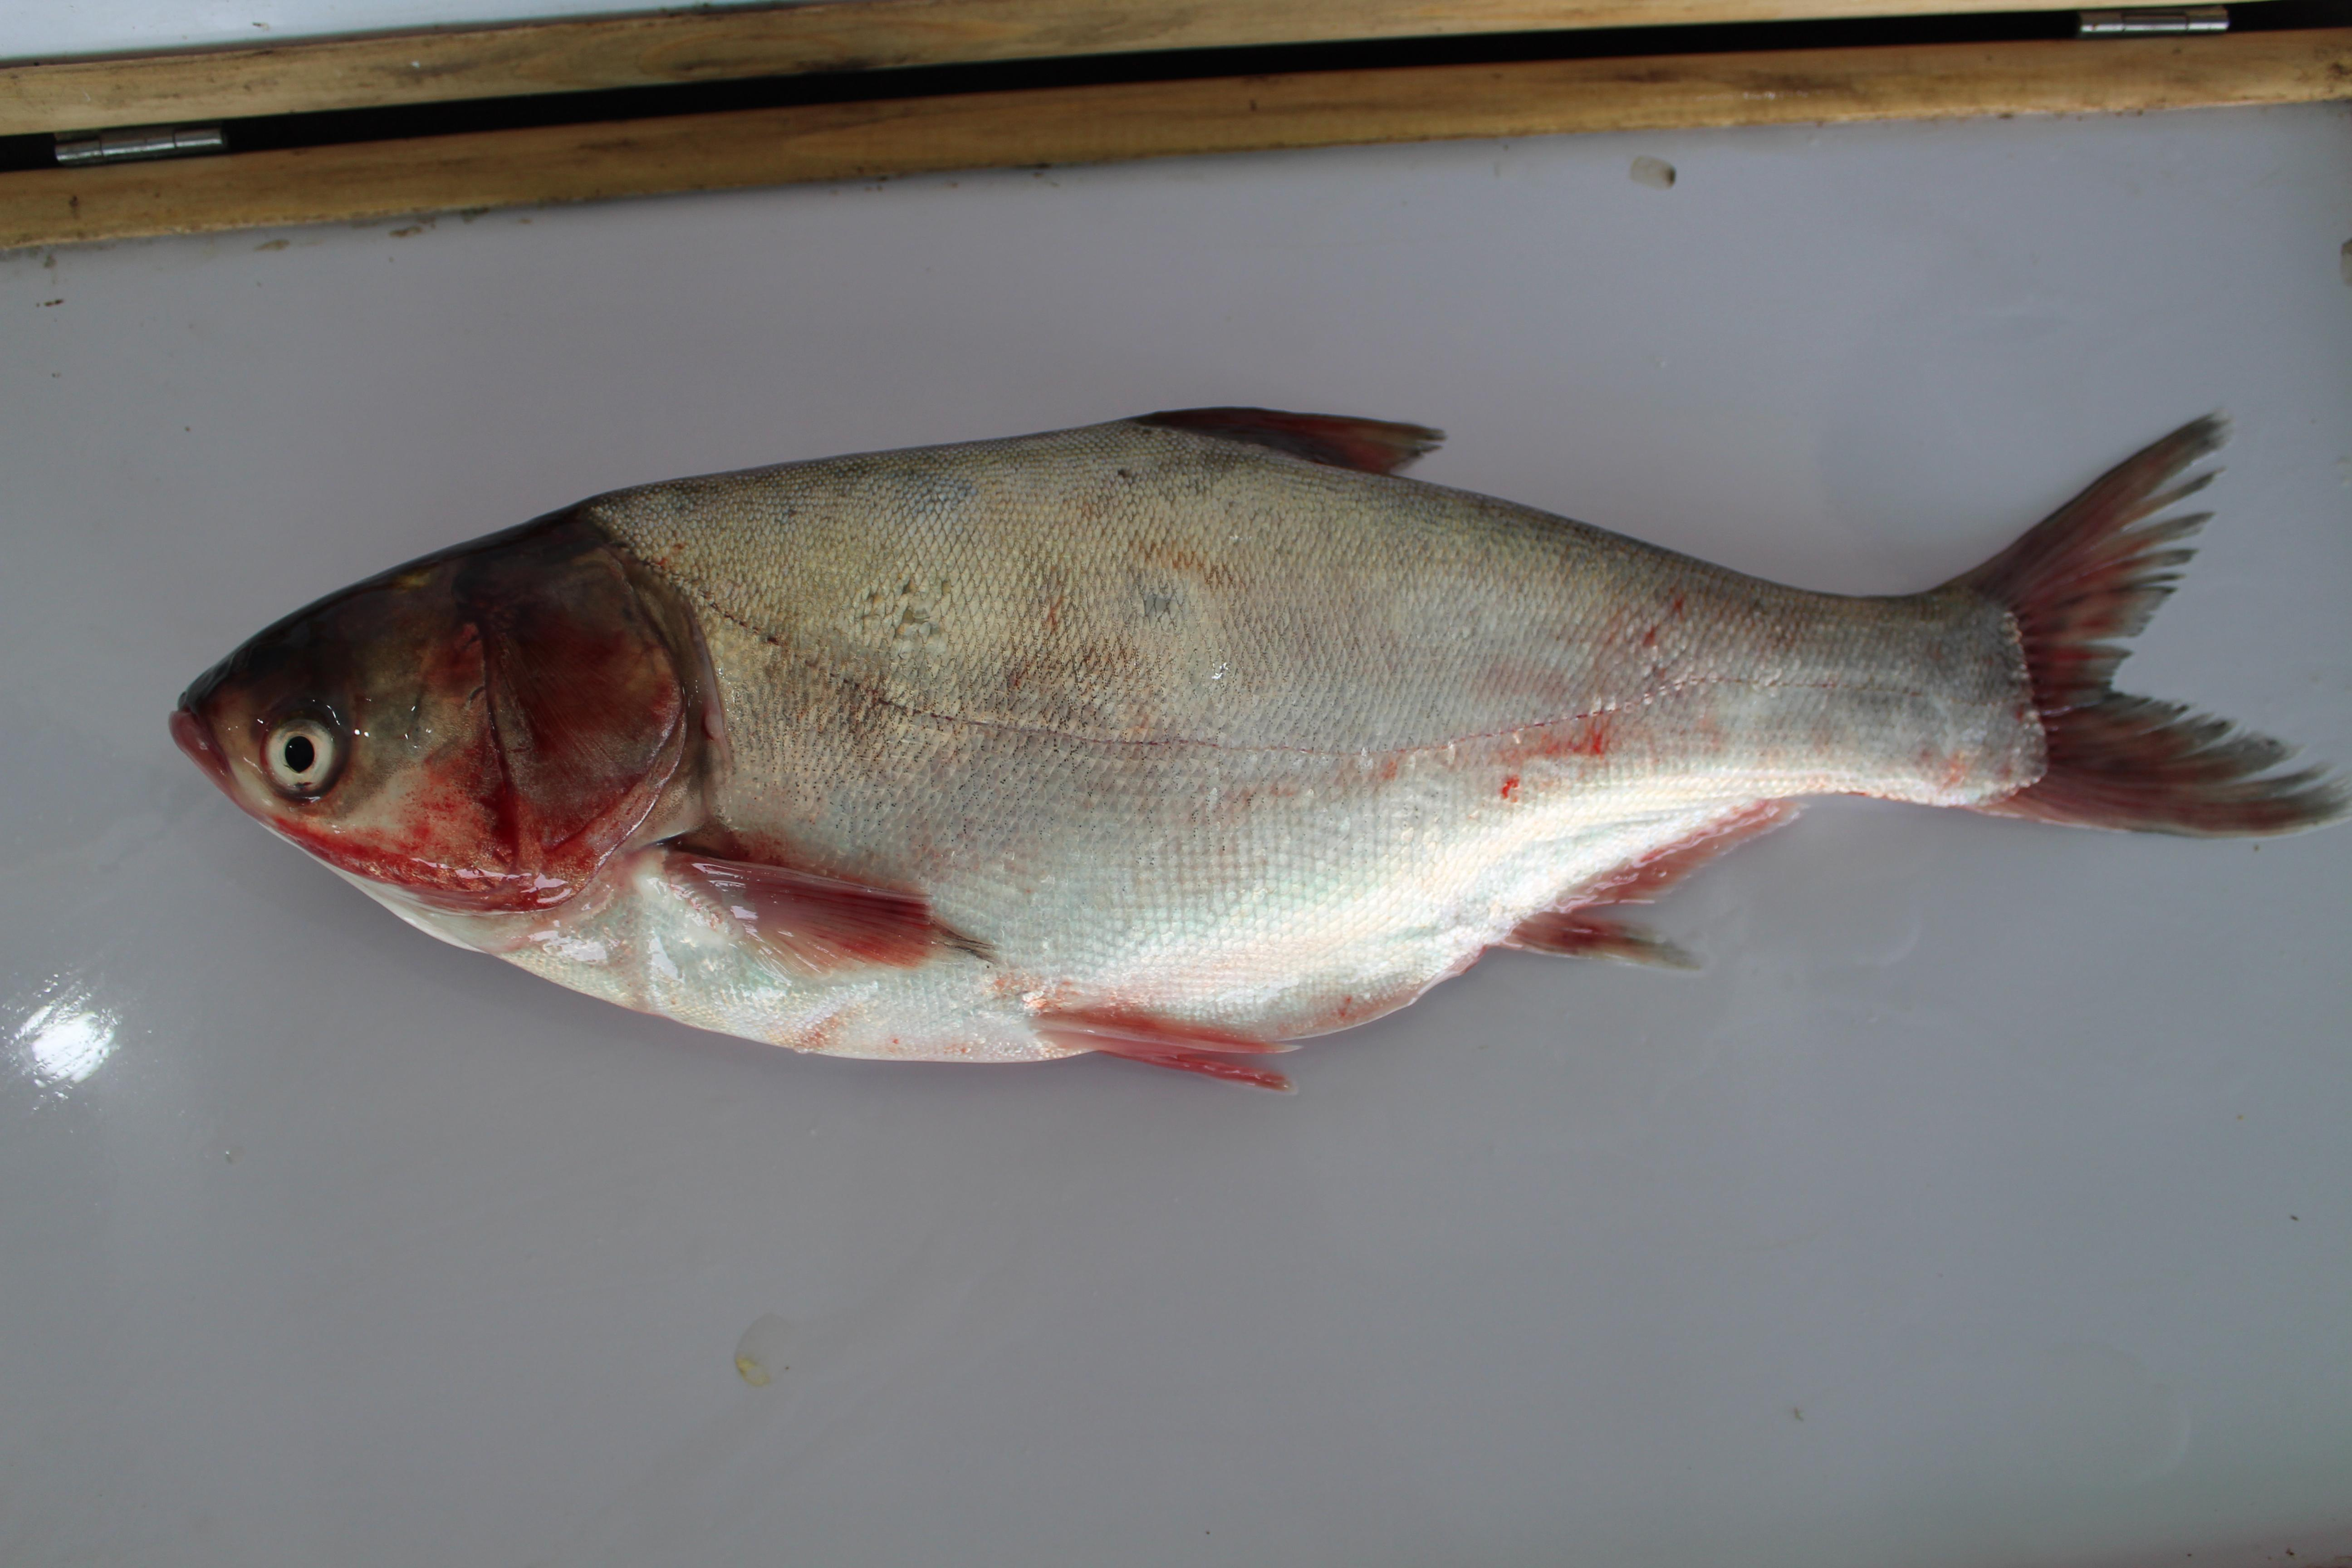Silver Carp: (156, 396, 2352, 1097)
